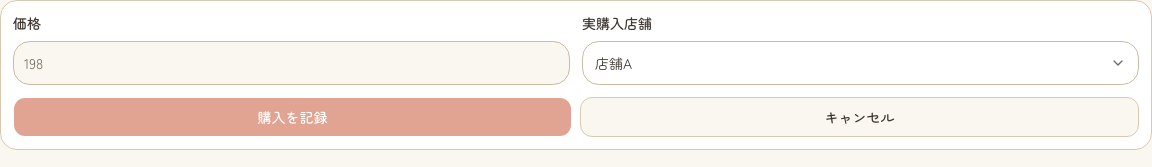
Test case: PurchaseInputForm › PF-05: 価格 0 円は送信可能
Step 1. Type "0" into the number field labelled "価格" → (292, 63), box [13,41,570,85]
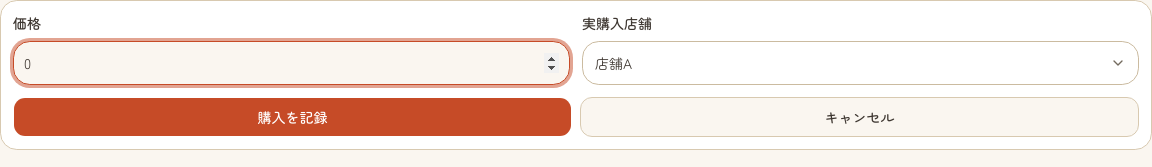
Now the button "購入を記録" is enabled, box [13,97,572,137]
